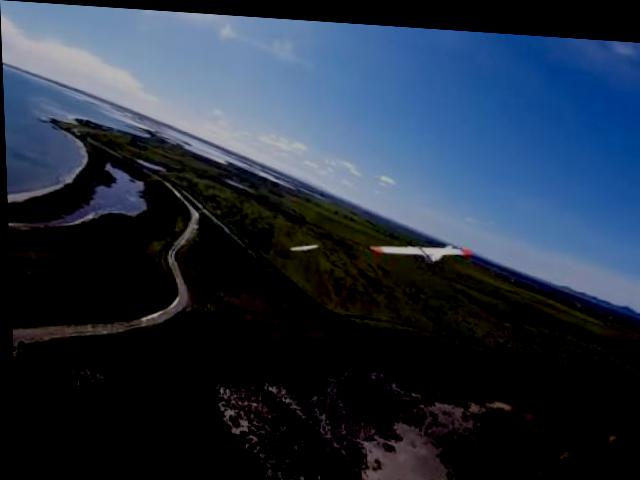uav: (368, 229, 476, 264), (290, 234, 318, 254)
